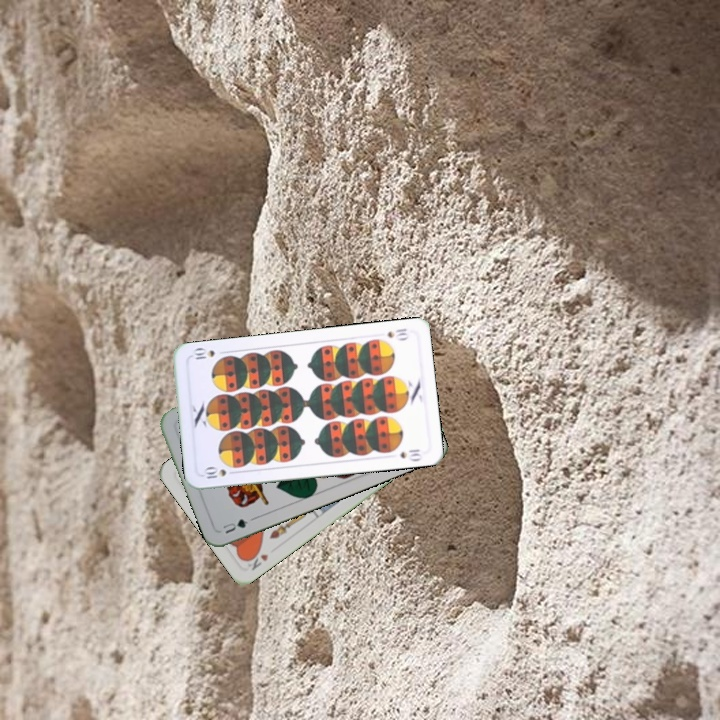GU: (219, 515, 251, 536)
HK: (242, 546, 271, 573)
S10: (383, 324, 412, 342), (199, 464, 229, 481)
